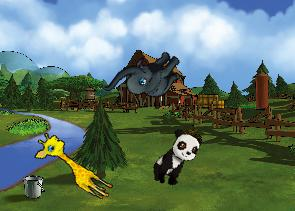elephant: (102, 32, 188, 121)
giraffe: (29, 128, 121, 203)
panda: (147, 125, 205, 192)
